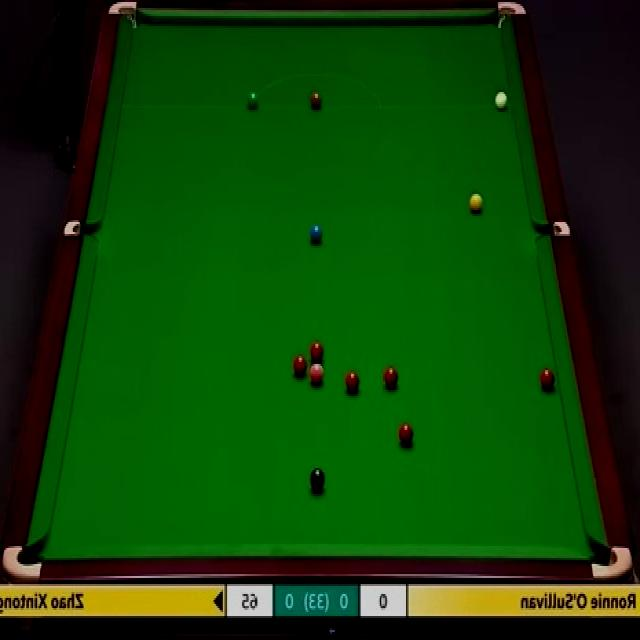black-ball: (309, 465, 325, 492)
blue-ball: (310, 224, 325, 244)
brown-ball: (310, 88, 322, 108)
green-ball: (247, 90, 259, 106)
pink-ball: (310, 361, 325, 386)
red-ball: (344, 369, 361, 395), (382, 365, 399, 390), (398, 421, 414, 446), (540, 368, 556, 392), (293, 356, 309, 379), (309, 339, 324, 363)
white-ball: (494, 91, 507, 111)
yellow-ball: (469, 193, 485, 214)
